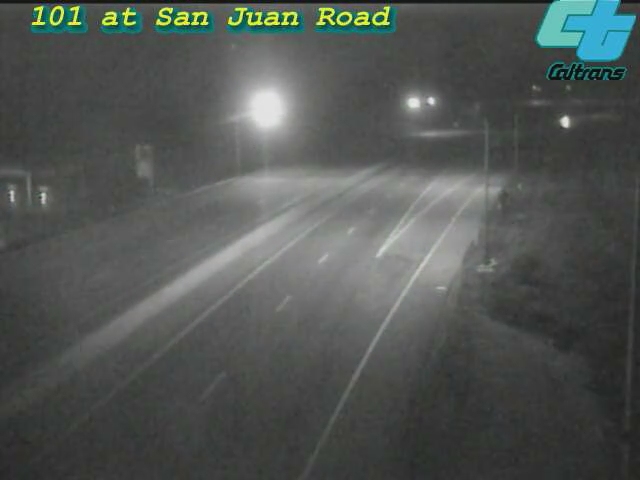vehicle: (540, 99, 590, 149)
